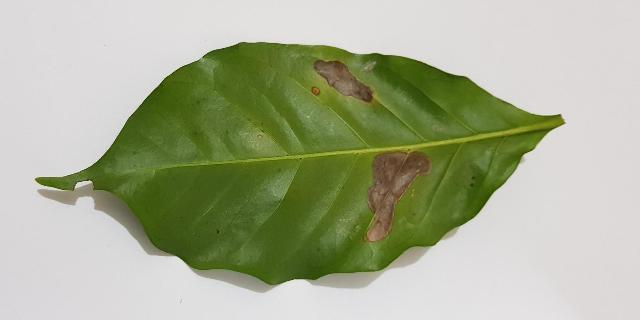cercospora: (365, 151, 431, 241), (313, 60, 376, 105), (312, 88, 320, 95)
